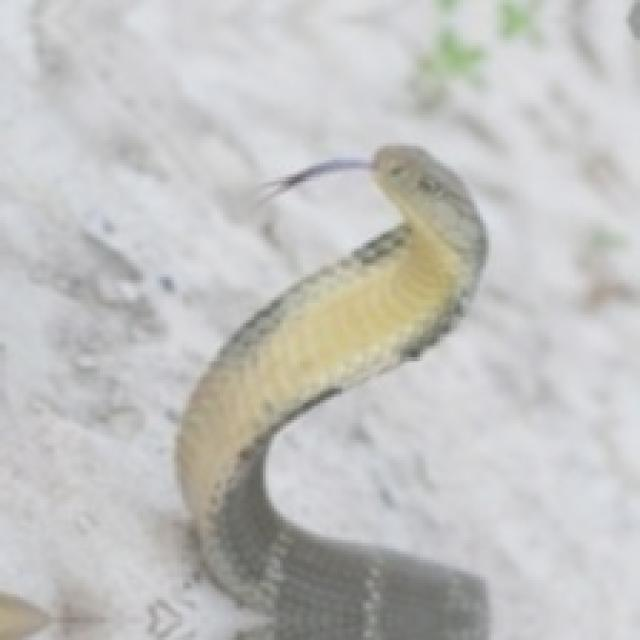king cobra: (177, 146, 486, 637)
